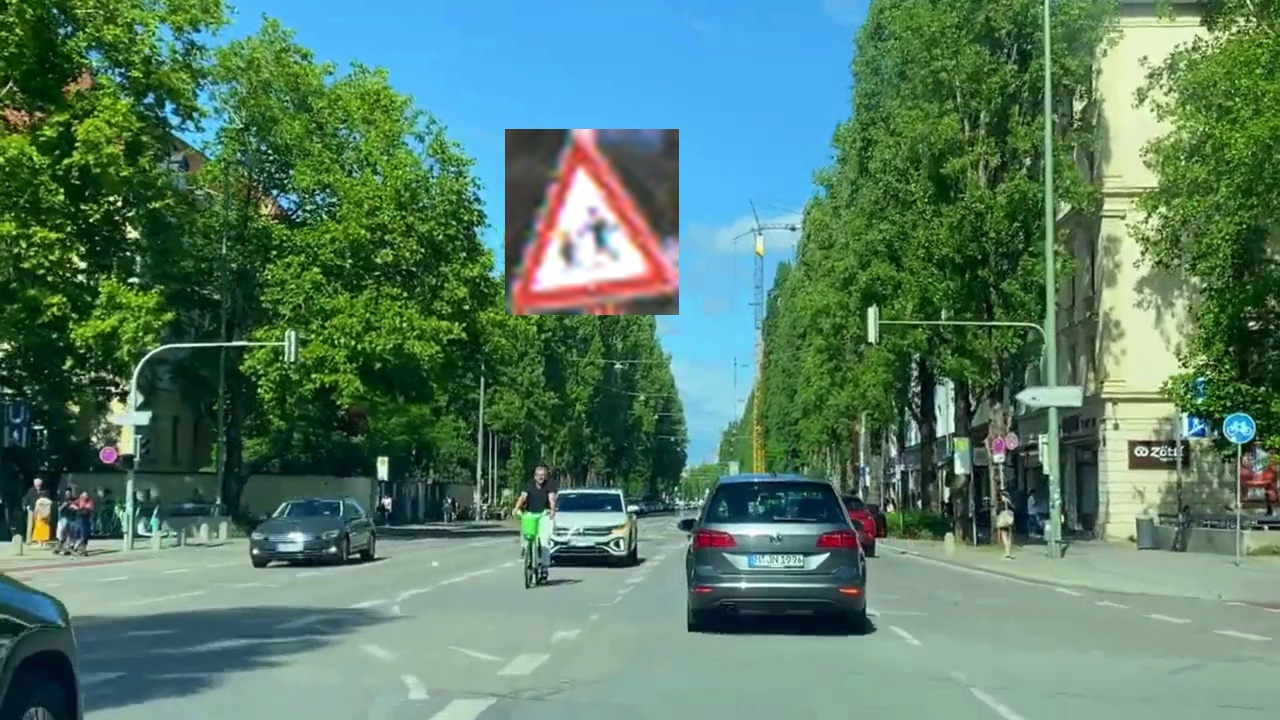Children: (505, 129, 679, 315)
